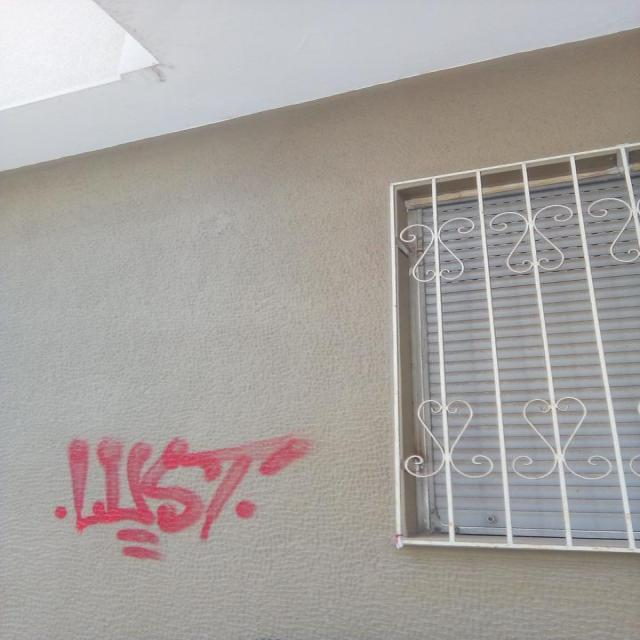nonspitting: (55, 438, 316, 560)
